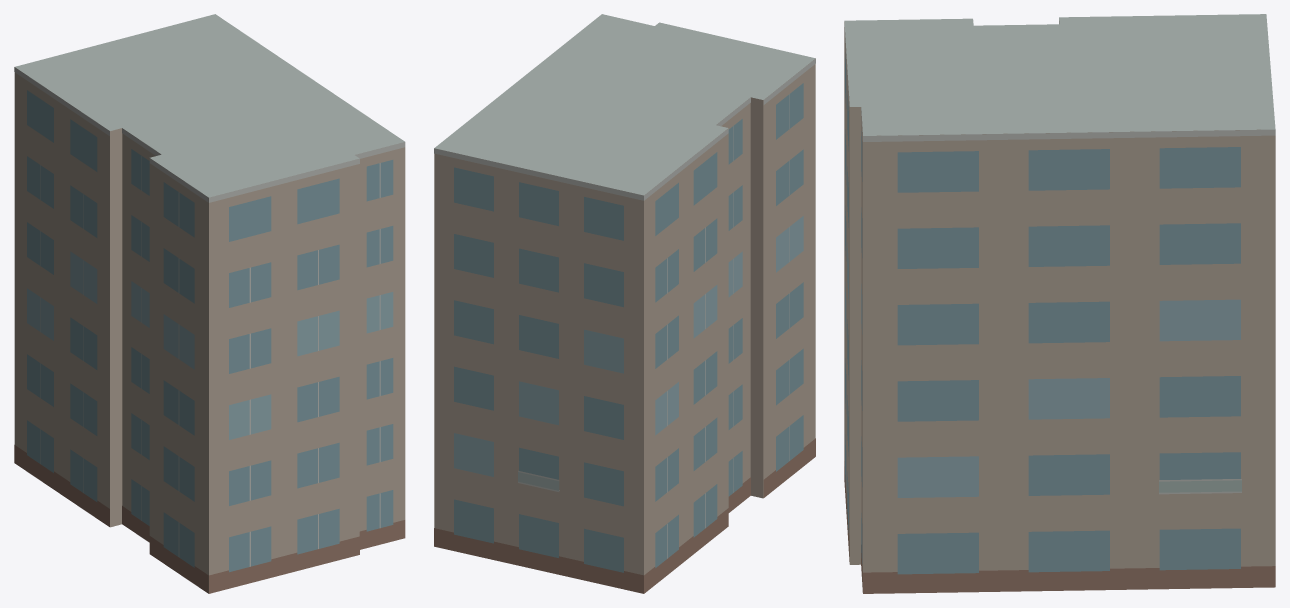
The model's file is survey-upis-32629179.glb.
3 views of the same model, side by side, from view 1: azimuth 30°, elevation 25°; view 2: azimuth 150°, elevation 25°; view 3: azimuth 270°, elevation 25° (orthographic). The views are drawn at different scales.
Parts seen in each view (by area): view 1: survey-upis-32629179.tmp; view 2: survey-upis-32629179.tmp; view 3: survey-upis-32629179.tmp.
Boxes of the visible parts, <box> form: survey-upis-32629179.tmp: <box>14,14,405,593</box>; survey-upis-32629179.tmp: <box>434,14,815,593</box>; survey-upis-32629179.tmp: <box>844,14,1275,593</box>.
Size of the model in its own units: 10.47 by 18.3 by 15.63.
